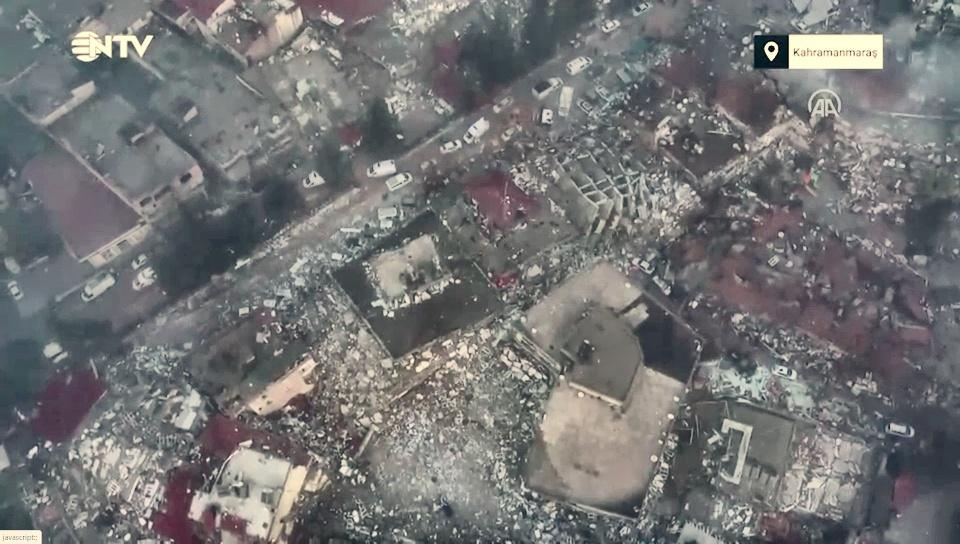kapali: (0, 302, 206, 459), (246, 177, 413, 304)
